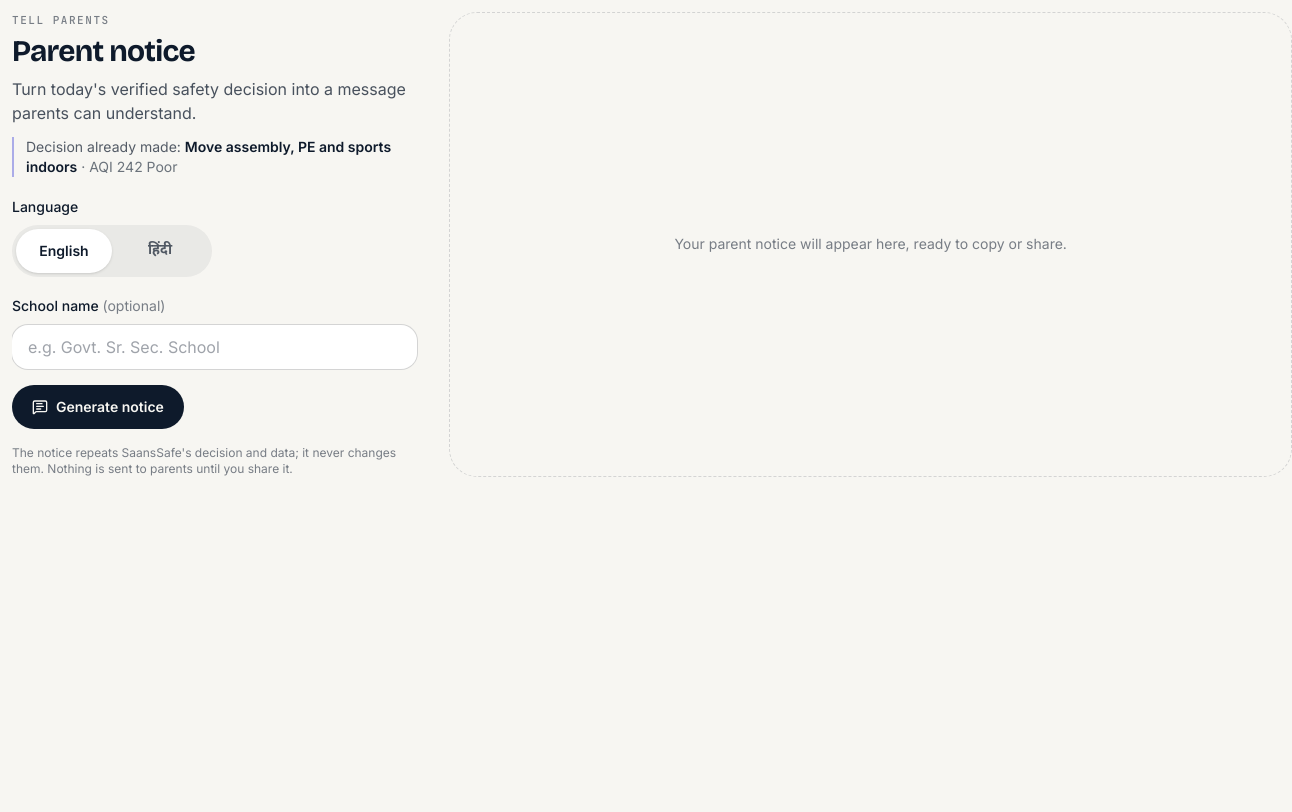
Scenario: ParentNotice › generates an English notice and shows title, body, key points, footer and sign-off
Click the button "Generate notice" at (98,406), box [12,384,184,428]
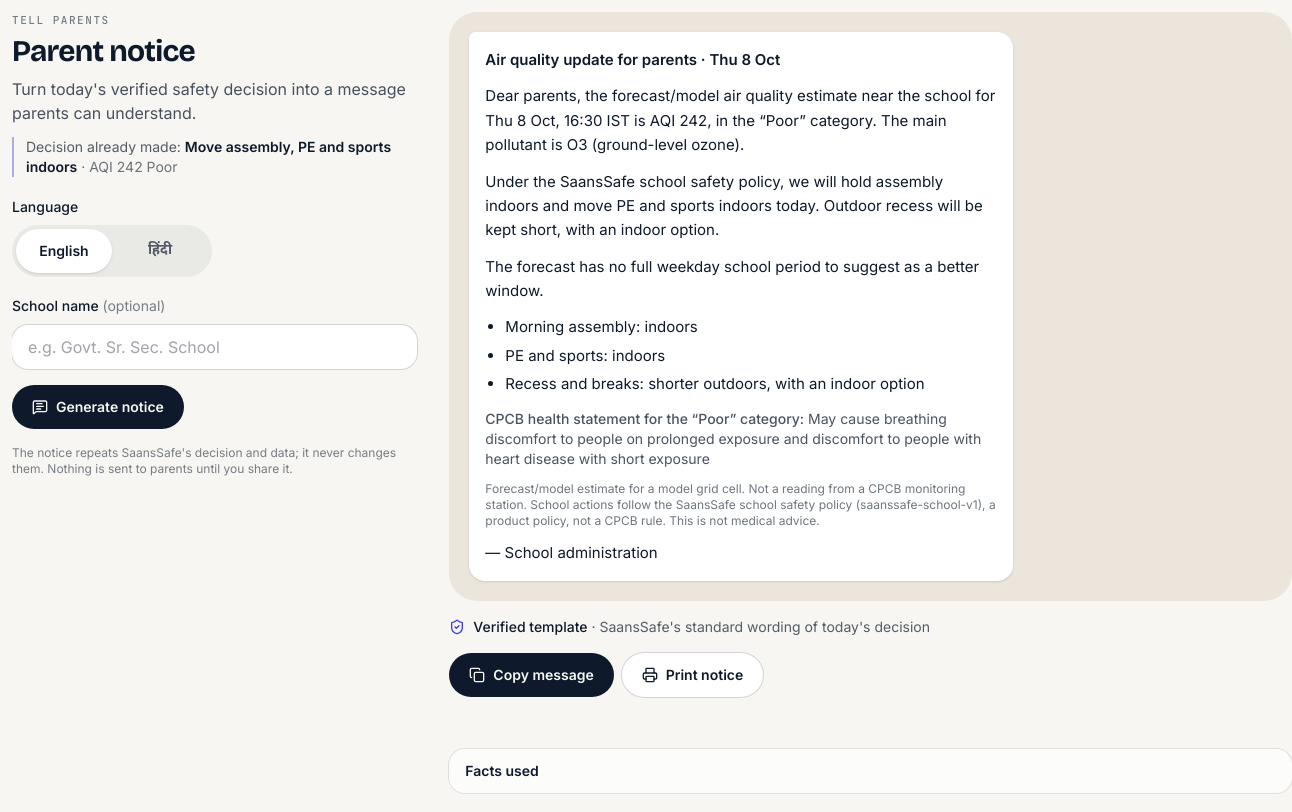
Now the text "Air quality update for parents · Thu 8 Oct" is shown, box [485,50,780,69]
Now the text "hold assembly indoors and move PE and sports indoors" is shown, box [485,172,983,239]
Now the list items read "Morning assembly: indoors", "PE and sports: indoors", "Recess and breaks: shorter outdoors, with an indoor option", in this order, box [505,317,698,336]; [505,346,665,365]; [505,372,997,396]
